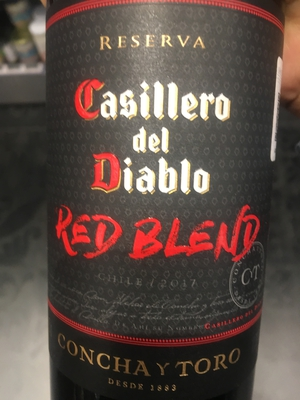casillero del diablo red blend: (44, 8, 290, 397)
